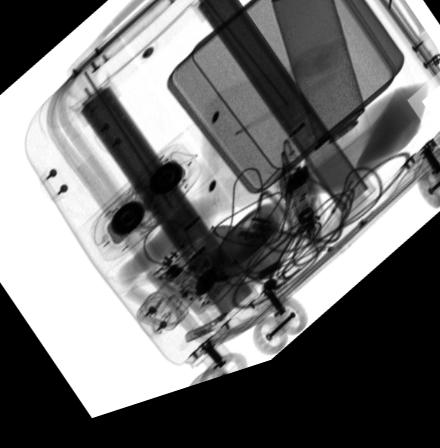Sprayer: (270, 0, 370, 182)
